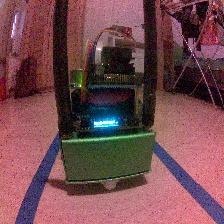rob: (59, 44, 156, 191)
